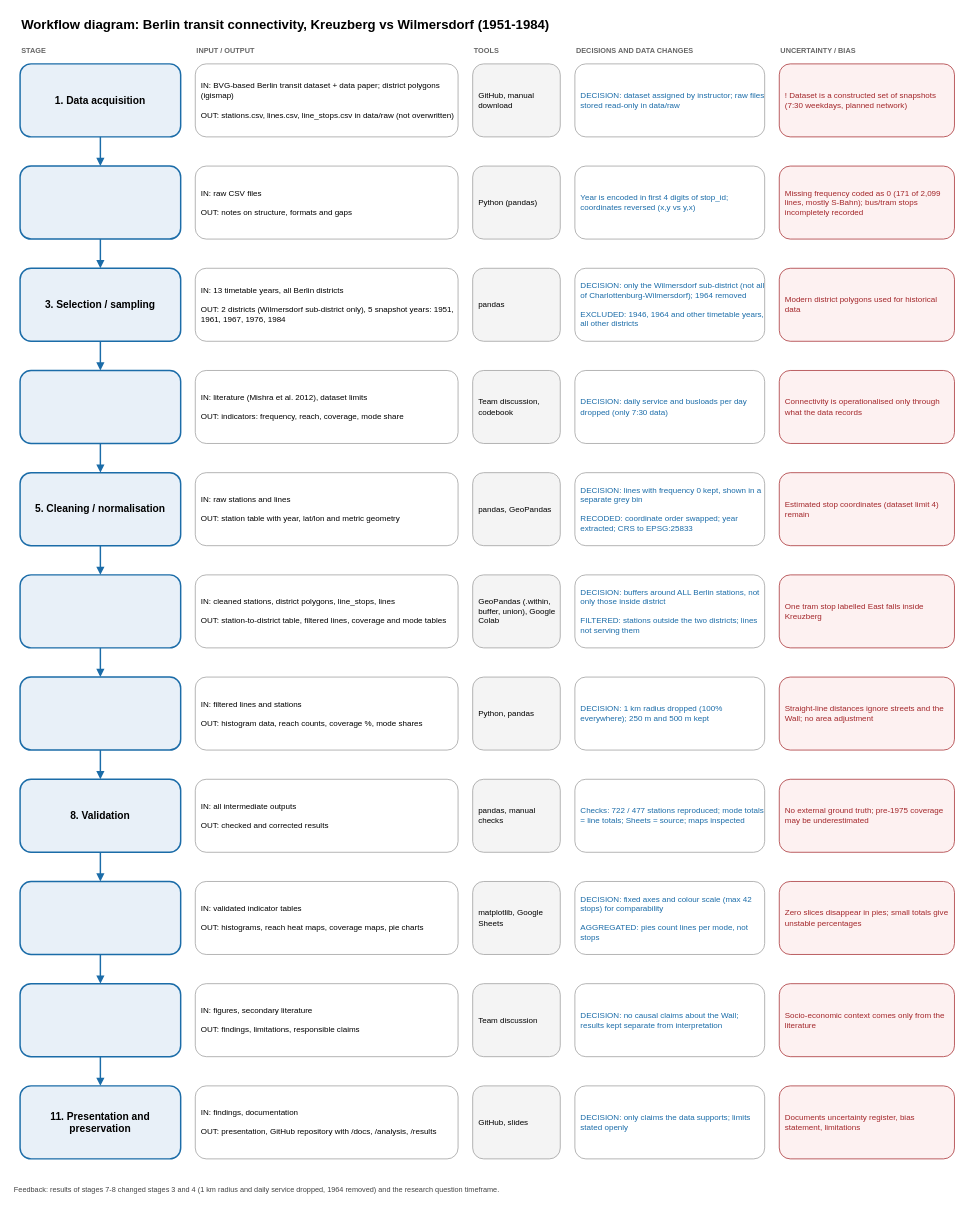
Image size: 967x1210. Some labels were removed from this diagram. The centre of each missing label's shape, as x and y in pixels:
10. Interpretation: point 100,1020
2. Inspection: point 100,202
4. Modelling: point 100,406
6. Processing: point 100,611
7. Analysis: point 100,713
9. Visualisation: point 100,917
